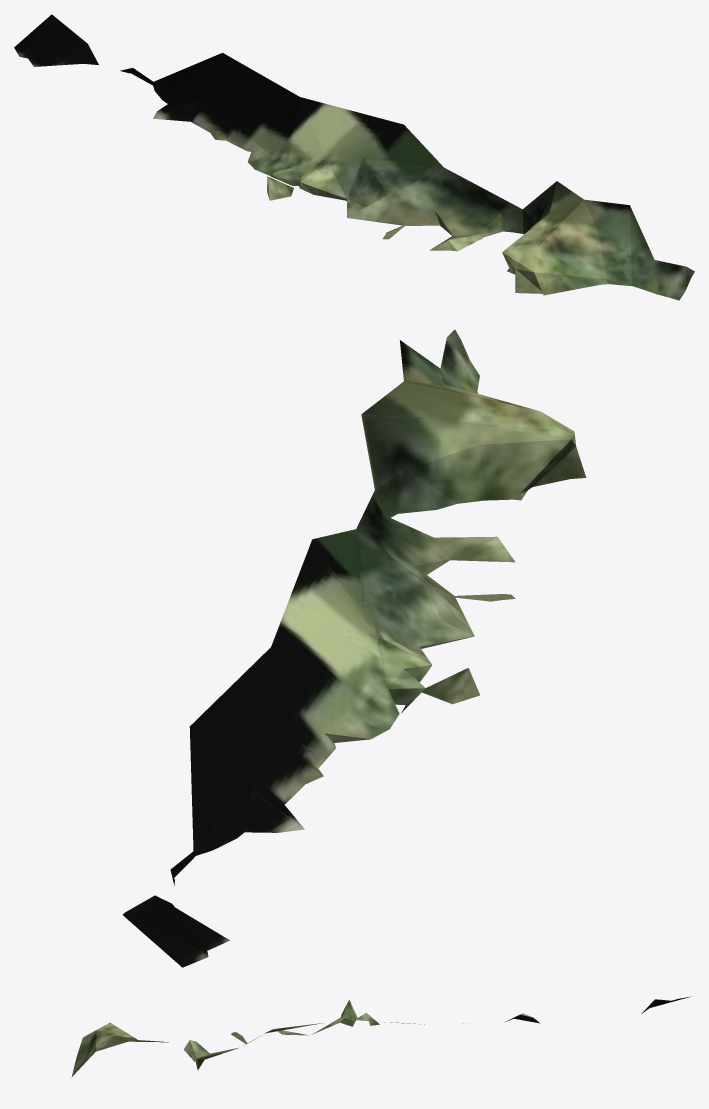
3 views of the same model, one above another, from view 1: azimuth 30°, elevation 25°; view 2: azimuth 150°, elevation 25°; view 3: azimuth 270°, elevation 25° (orthographic). The views are drawn at different scales.
Bounding box in the file's own units: 33.36 × 7.21 × 94.38.
1 material, 1 textured.
